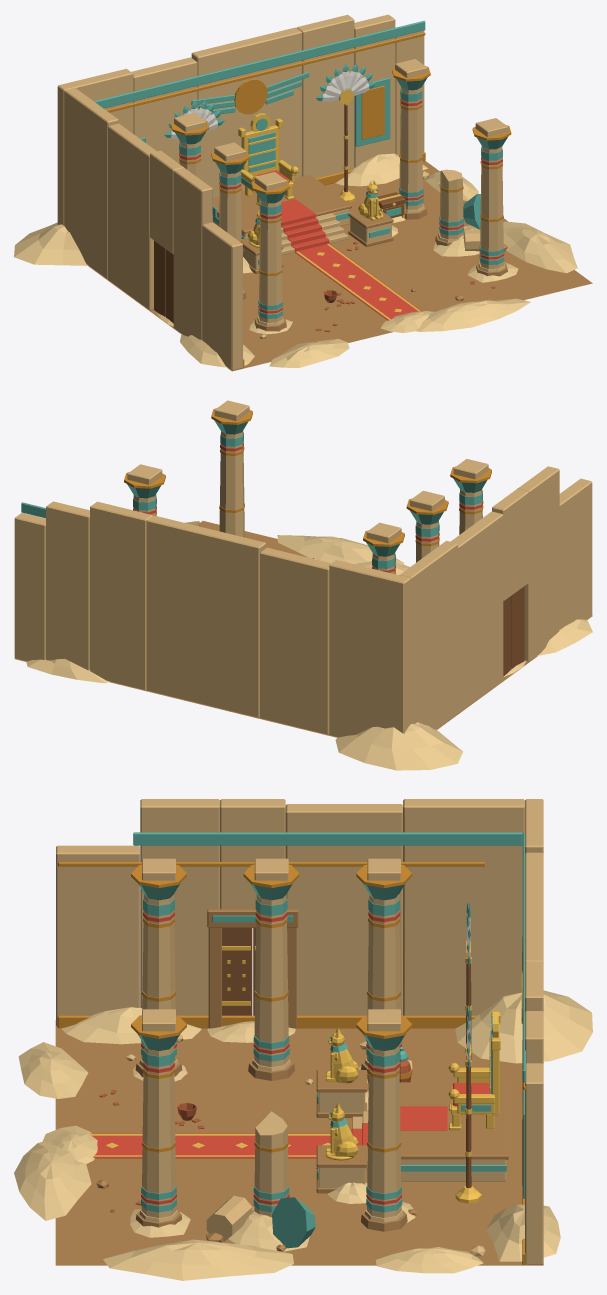
Rendered from desert-throne-room.glb.
The picture shows the model from 3 angles, top to bottom: view 1: azimuth 30°, elevation 25°; view 2: azimuth 150°, elevation 25°; view 3: azimuth 270°, elevation 25°; orthographic projection. The views are drawn at different scales.
Parts seen in each view (by area): view 1: Room_Floor, Room_BackWall_3, Room_LeftWall_3, Room_LeftWall_4, Room_BackWall_4, Room_LeftWall_2, Room_LeftWall_1, Room_BackWall_2, Room_Frieze_Back, Room_BackWall_5, Room_BackWall_1, Carpet_Floor (+32 smaller); view 2: Room_BackWall_3, Room_BackWall_1, Room_BackWall_2, Room_BackWall_4, Room_LeftWall_4, Room_LeftWall_3, Room_BackWall_5, Room_LeftWall_2, Room_LeftWall_1, Room_BackWall_6, Room_SandDrift_1, Room_DoorLintel (+14 smaller); view 3: Room_Floor, Room_LeftWall_4, Room_LeftWall_3, Room_LeftWall_1, Room_LeftWall_2, Room_SandDrift_1, Room_Frieze_Left, Room_SandDrift_6, Dais_Cap, Room_DoorLintel, Column_2_Shaft, Column_6_Shaft (+49 smaller).
Boxes of the visible parts, x1=… form: Room_Floor: x1=88, y1=161, x2=592, y2=371; Room_BackWall_3: x1=191, y1=27, x2=301, y2=197; Room_LeftWall_3: x1=108, y1=123, x2=156, y2=310; Room_LeftWall_4: x1=64, y1=88, x2=118, y2=279; Room_BackWall_4: x1=296, y1=14, x2=354, y2=178; Room_LeftWall_2: x1=173, y1=168, x2=212, y2=339; Room_LeftWall_1: x1=202, y1=222, x2=242, y2=370; Room_BackWall_2: x1=131, y1=57, x2=197, y2=163; Room_Frieze_Back: x1=94, y1=20, x2=425, y2=108; Room_BackWall_5: x1=354, y1=14, x2=395, y2=167; Room_BackWall_1: x1=57, y1=68, x2=133, y2=225; Carpet_Floor: x1=295, y1=243, x2=421, y2=320; Room_BackWall_3: x1=146, y1=515, x2=265, y2=717; Room_BackWall_1: x1=329, y1=560, x2=410, y2=737; Room_BackWall_2: x1=260, y1=547, x2=330, y2=734; Room_BackWall_4: x1=90, y1=501, x2=152, y2=690; Room_LeftWall_4: x1=399, y1=540, x2=457, y2=729; Room_LeftWall_3: x1=451, y1=511, x2=503, y2=713; Room_BackWall_5: x1=46, y1=501, x2=89, y2=670; Room_LeftWall_2: x1=517, y1=466, x2=559, y2=661; Room_LeftWall_1: x1=559, y1=478, x2=592, y2=629; Room_BackWall_6: x1=14, y1=513, x2=45, y2=661; Room_SandDrift_1: x1=335, y1=722, x2=462, y2=770; Room_DoorLintel: x1=492, y1=489, x2=528, y2=601; Room_Floor: x1=55, y1=1020, x2=543, y2=1265; Room_LeftWall_4: x1=403, y1=799, x2=524, y2=1015; Room_LeftWall_3: x1=285, y1=804, x2=402, y2=1015; Room_LeftWall_1: x1=56, y1=845, x2=139, y2=1026; Room_LeftWall_2: x1=140, y1=799, x2=219, y2=1015; Room_SandDrift_1: x1=455, y1=990, x2=592, y2=1063; Room_Frieze_Left: x1=133, y1=832, x2=522, y2=845; Room_SandDrift_6: x1=103, y1=1239, x2=293, y2=1280; Dais_Cap: x1=399, y1=1082, x2=508, y2=1159; Room_DoorLintel: x1=220, y1=799, x2=285, y2=909; Column_2_Shaft: x1=254, y1=894, x2=288, y2=1067; Column_6_Shaft: x1=367, y1=1045, x2=401, y2=1217.
Size of the model in its own units: 73.86 by 26 by 61.69.
